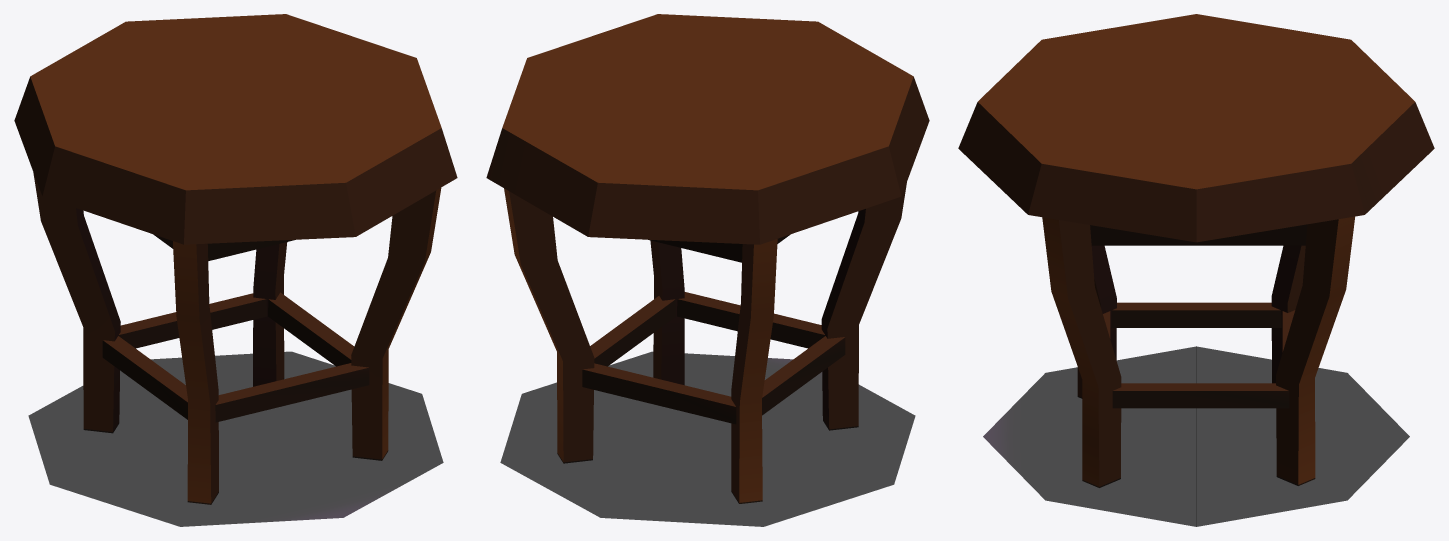
Rendered from small_table_01.fbx.
3 views of the same model, side by side, from view 1: azimuth 30°, elevation 25°; view 2: azimuth 150°, elevation 25°; view 3: azimuth 270°, elevation 25° (orthographic).
Parts seen in each view (by area): view 1: small_table_01; view 2: small_table_01; view 3: small_table_01.
Part boxes in pixels (box(x1,y1,x2,y2)): small_table_01: box(14, 14, 457, 526); small_table_01: box(486, 14, 929, 526); small_table_01: box(958, 14, 1434, 526).
Size of the model in its own units: 73.2 by 61.13 by 78.52.
